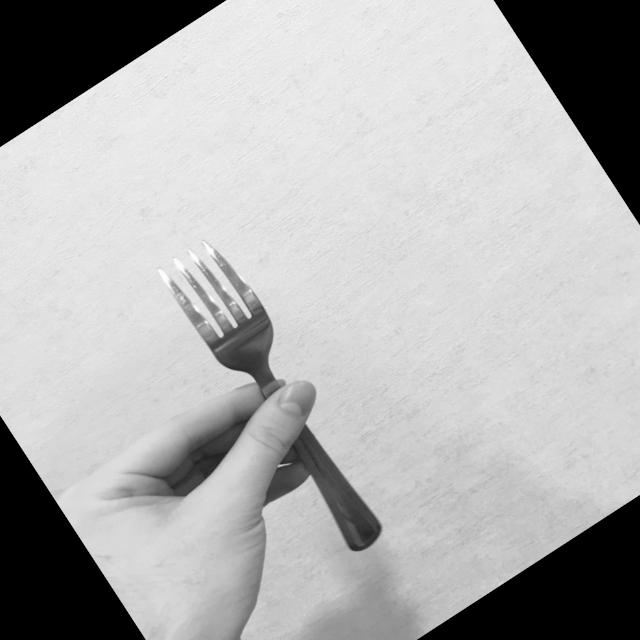fork: (151, 226, 408, 564)
